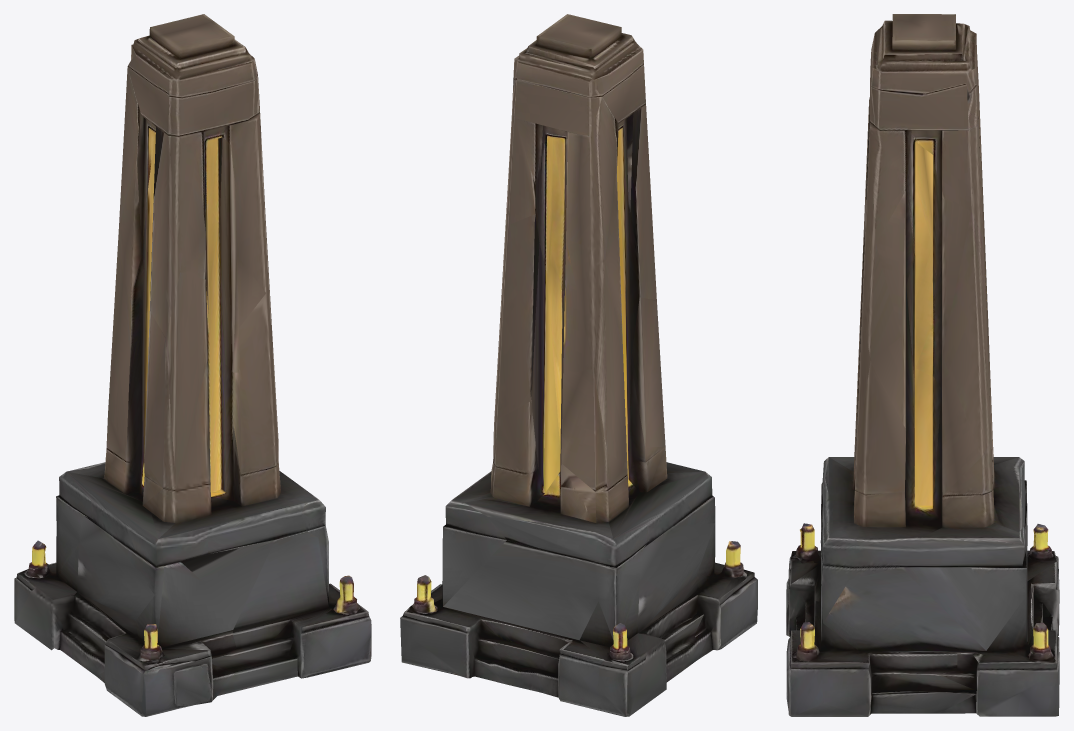
Rendered from monumentPylon.glb.
3 renders of one model, left to right at view 1: azimuth 30°, elevation 25°; view 2: azimuth 150°, elevation 25°; view 3: azimuth 270°, elevation 25°, orthographic. The views are drawn at different scales.
Visible parts, largest first — view 1: monumentPylon; view 2: monumentPylon; view 3: monumentPylon.
Part boxes in pixels (x1,y1,x2,y2): monumentPylon: (14,14,371,716); monumentPylon: (400,14,757,716); monumentPylon: (786,14,1059,716).
Size of the model in its own units: 3.93 by 10 by 3.92.
Materials: 1 (1 with a texture image).
